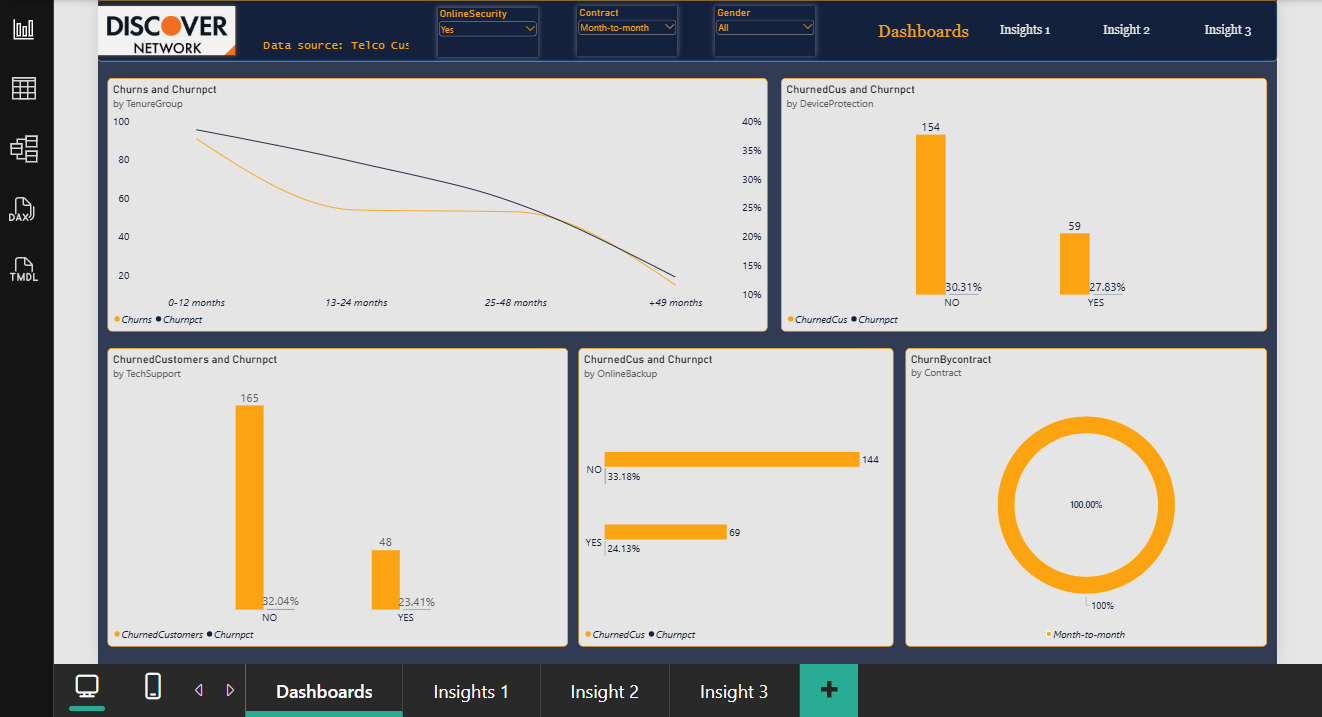

This screenshot's page, from the dashboard's own definition file:
{"tool":"powerbi","page":{"name":"Page 1","canvas":[3840,2160],"ordinal":0},"visuals":[{"type":"shape","box":[0,0,3840,200],"z":0},{"type":"donutChart","fields":{"Y":["All Measures.ChrunBycontract"],"Category":["WA_Fn-UseC_-Telco-Customer-Churn.Contract"]},"box":[2630,1155,1210,1005],"z":1000},{"type":"lineChart","fields":{"Y":["Sum(WA_Fn-UseC_-Telco-Customer-Churn.Churn)"],"Category":["WA_Fn-UseC_-Telco-Customer-Churn.TenureGroup"],"Y2":["All Measures.Churnpct"]},"box":[0,200,2180,955],"z":2000},{"type":"clusteredBarChart","fields":{"Category":["WA_Fn-UseC_-Telco-Customer-Churn.OnlineBackup"],"Y":["All Measures.churnedCus","All Measures.Churnpct"]},"box":[1565,1155,1065,1005],"z":3000},{"type":"clusteredColumnChart","fields":{"Category":["WA_Fn-UseC_-Telco-Customer-Churn.DeviceProtection"],"Y":["All Measures.churnedCus","All Measures.Churnpct"]},"box":[2180,200,1660,955],"z":4000},{"type":"clusteredColumnChart","fields":{"Category":["WA_Fn-UseC_-Telco-Customer-Churn.TechSupport"],"Y":["All Measures.churnedCus","All Measures.Churnpct"]},"box":[0,1155,1565,1005],"z":5000},{"type":"image","box":[0,20,450,160],"z":6000},{"type":"slicer","fields":{"Values":["WA_Fn-UseC_-Telco-Customer-Churn.gender"]},"box":[985,0,465,200],"z":7000},{"type":"slicer","fields":{"Values":["WA_Fn-UseC_-Telco-Customer-Churn.gender"]},"box":[2545,0,465,200],"z":7001},{"type":"slicer","fields":{"Values":["WA_Fn-UseC_-Telco-Customer-Churn.gender"]},"box":[1760,0,465,200],"z":7002}]}

Visuals, with their boxes on the page's 3840x2160 design canvas (x1, y1, x2, y2). These are canvas units, not pixel positions in the 1322x717 screenshot, which may show the page scaled, cropped or inside an application window:
shape: rect(0, 0, 3840, 200)
donutChart - All Measures.ChrunBycontract x WA_Fn-UseC_-Telco-Customer-Churn.Contract: rect(2630, 1155, 3840, 2160)
lineChart - Sum(WA_Fn-UseC_-Telco-Customer-Churn.Churn) x WA_Fn-UseC_-Telco-Customer-Churn.TenureGroup: rect(0, 200, 2180, 1155)
clusteredBarChart - WA_Fn-UseC_-Telco-Customer-Churn.OnlineBackup x All Measures.churnedCus: rect(1565, 1155, 2630, 2160)
clusteredColumnChart - WA_Fn-UseC_-Telco-Customer-Churn.DeviceProtection x All Measures.churnedCus: rect(2180, 200, 3840, 1155)
clusteredColumnChart - WA_Fn-UseC_-Telco-Customer-Churn.TechSupport x All Measures.churnedCus: rect(0, 1155, 1565, 2160)
image: rect(0, 20, 450, 180)
slicer - WA_Fn-UseC_-Telco-Customer-Churn.gender: rect(985, 0, 1450, 200)
slicer - WA_Fn-UseC_-Telco-Customer-Churn.gender: rect(2545, 0, 3010, 200)
slicer - WA_Fn-UseC_-Telco-Customer-Churn.gender: rect(1760, 0, 2225, 200)
